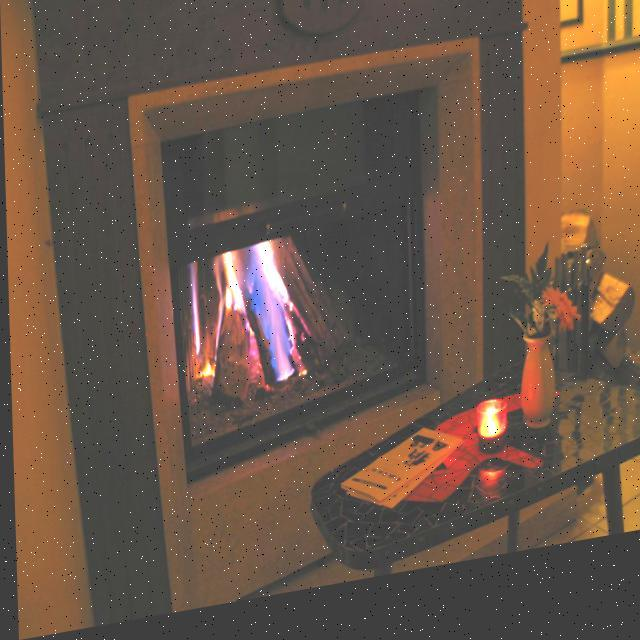Fire: (185, 249, 306, 409), (472, 414, 502, 457)
